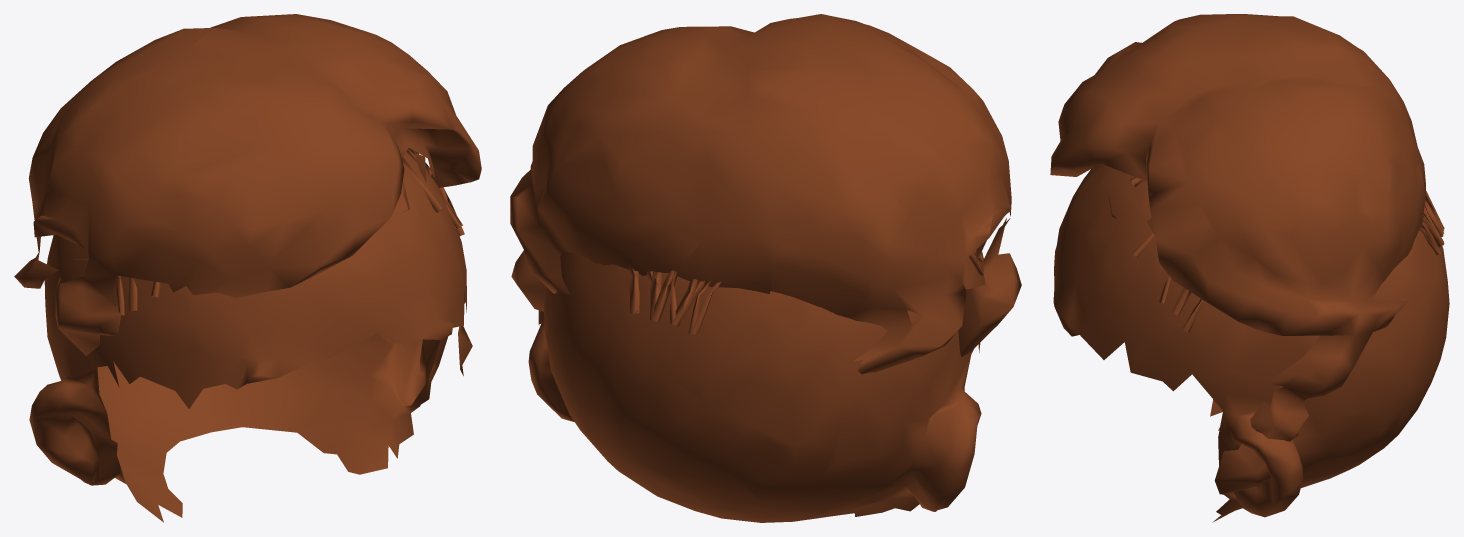
The model's file is braid.glb.
The picture shows the model from 3 angles, left to right: view 1: azimuth 30°, elevation 25°; view 2: azimuth 150°, elevation 25°; view 3: azimuth 270°, elevation 25°; orthographic projection. The views are drawn at different scales.
Visible parts, largest first — view 1: Hair, HairScalp, HairPulledRootStrands; view 2: Hair, HairScalp, HairPulledRootStrands; view 3: Hair, HairScalp, HairPulledRootStrands.
Boxes of the visible parts, <box> form: Hair: <box>14,14,481,375</box>; HairScalp: <box>29,153,466,522</box>; HairPulledRootStrands: <box>116,148,464,315</box>; Hair: <box>510,14,1021,374</box>; HairScalp: <box>528,251,985,522</box>; HairPulledRootStrands: <box>629,250,983,334</box>; Hair: <box>1050,14,1425,494</box>; HairScalp: <box>1053,163,1449,522</box>; HairPulledRootStrands: <box>1130,177,1444,332</box>.
Bounding box in the file's own units: 0.528 × 0.5141 × 0.4397.
